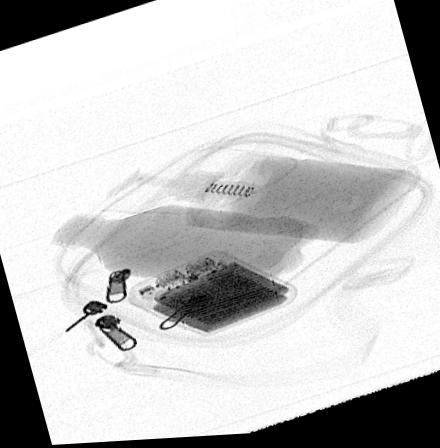Powerbank: (128, 253, 298, 342)
